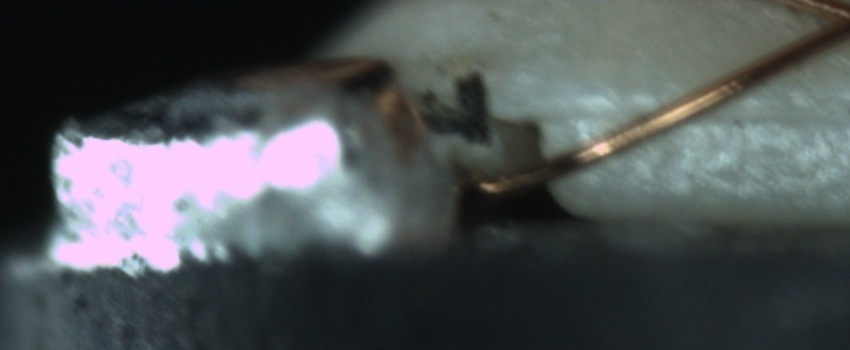DL: (566, 79, 850, 147)
